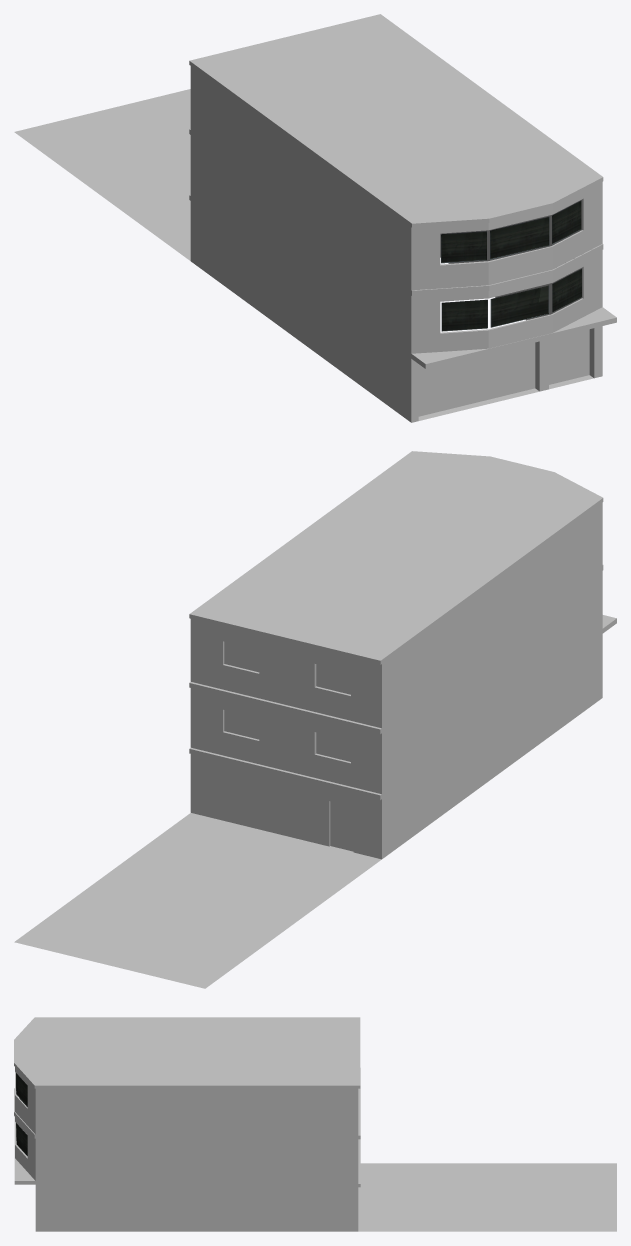
The picture shows the model from 3 angles, top to bottom: view 1: azimuth 30°, elevation 25°; view 2: azimuth 150°, elevation 25°; view 3: azimuth 270°, elevation 25°; orthographic projection. The views are drawn at different scales.
Visible parts, largest first — view 1: BB-005; view 2: BB-005; view 3: BB-005.
Part boxes in pixels (<box>): BB-005: <box>14,14,616,422</box>; BB-005: <box>14,451,616,988</box>; BB-005: <box>14,1017,616,1231</box>.
Size of what is drawn, in the model's own units: 10 by 9.98 by 37.34.
